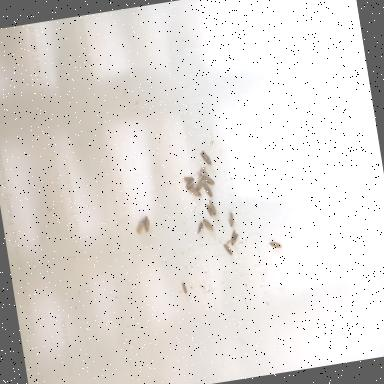pbw: (204, 200, 218, 219), (133, 216, 146, 236), (186, 184, 202, 198), (193, 174, 205, 192), (265, 238, 281, 251), (179, 175, 195, 188), (228, 229, 239, 246), (201, 174, 214, 188), (202, 218, 214, 233), (200, 150, 211, 166), (202, 183, 213, 199), (142, 215, 151, 234), (226, 212, 236, 228), (223, 243, 233, 256), (194, 221, 204, 234), (181, 282, 187, 295)
